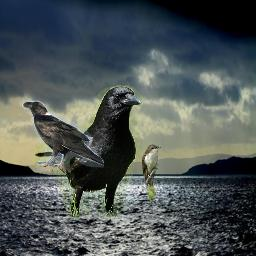Crow: (35, 85, 143, 217), (22, 100, 104, 174)
Cuckoo: (142, 143, 161, 200)
